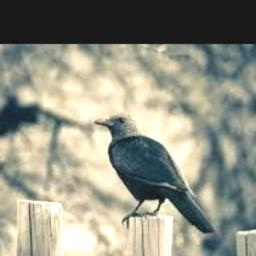Crow: (95, 112, 217, 234)
